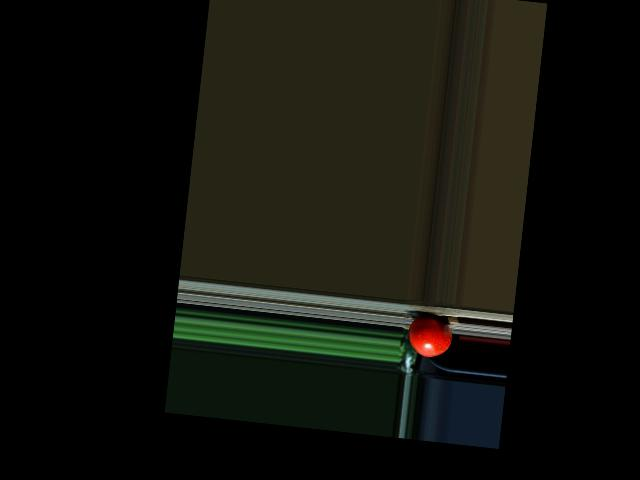tomato: (405, 315, 453, 359)
